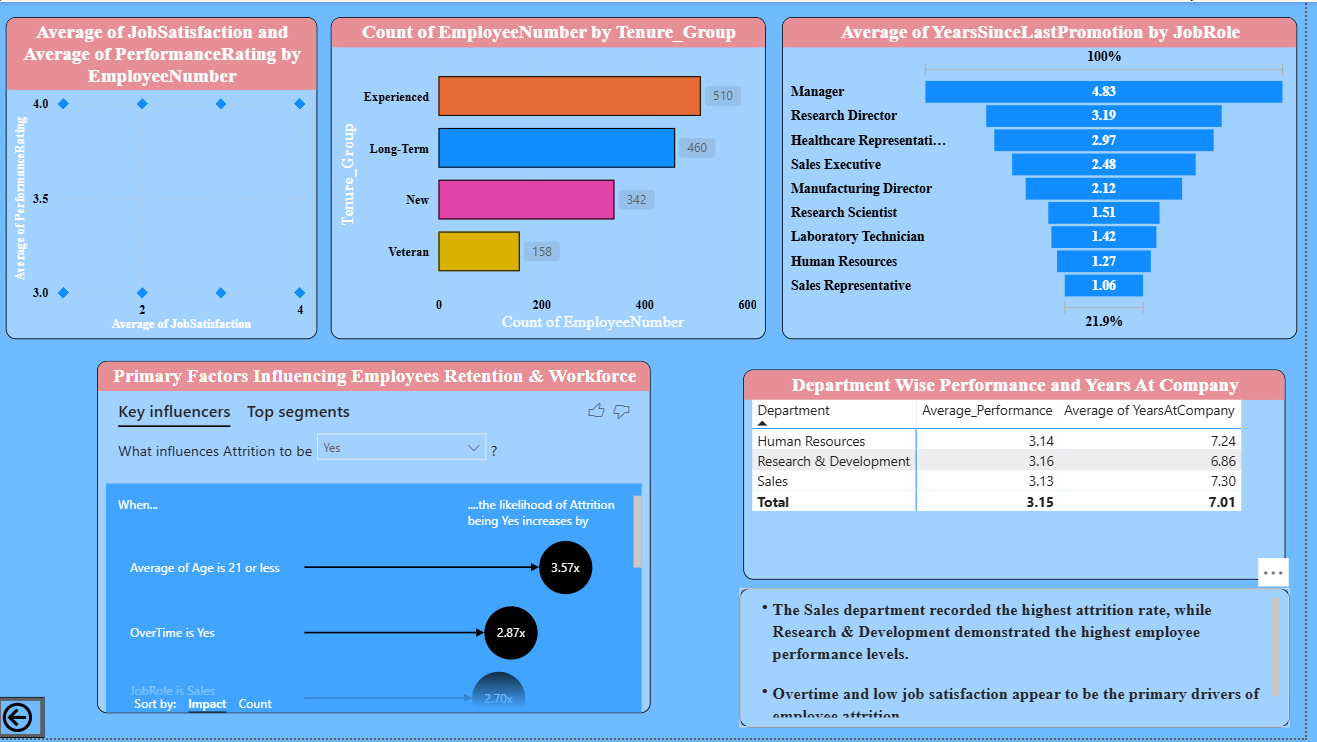

The page's visual inventory and layout, read from the dashboard file:
{"tool":"powerbi","page":{"name":"Page 2","canvas":[1280,720],"ordinal":1},"visuals":[{"type":"scatterChart","fields":{"X":["Avg(Employee_Performance.JobSatisfaction)"],"Y":["Avg(Employee_Performance.PerformanceRating)"],"Category":["Employee_Performance.EmployeeNumber"]},"box":[8.6,14.7,304.5,315.5],"z":0},{"type":"pivotTable","title":"Department Wise Performance and Years At Company","fields":{"Rows":["Employee_Master.Department"],"Values":["Employee_Performance.Average_Performance","Avg(Employee_Attrition.YearsAtCompany)"]},"box":[730,359.5,530.7,205.4],"z":1000},{"type":"clusteredBarChart","fields":{"Category":["Employee_Attrition.Tenure_Group"],"Y":["Count(Employee_Attrition.EmployeeNumber)"]},"box":[326.5,14.7,425.5,315.5],"z":2000},{"type":"funnel","fields":{"Category":["Employee_Master.JobRole"],"Y":["Avg(Employee_Attrition.YearsSinceLastPromotion)"]},"box":[767.9,14.7,503.8,315.5],"z":3000},{"type":"keyDriversVisual","title":"Primary Factors Influencing Employees Retention & Workforce","fields":{"Target":["Employee_Attrition.Attrition"],"ExplainBy":["Avg(Employee_Master.Age)","Employee_Master.Department","Employee_Master.JobRole","Employee_Attrition.OverTime","Avg(Employee_Compensation.MonthlyIncome)","Avg(Employee_Performance.JobSatisfaction)","Avg(Employee_Attrition.YearsAtCompany)"]},"box":[97.8,351,541.7,344.8],"z":4000},{"type":"textbox","box":[726.4,573.5,538,135.7],"z":5000},{"type":"actionButton","box":[0,679.9,46.5,40.4],"z":6000}]}

Visuals, with their boxes in screenshot pixels (x1, y1, x2, y2), scaled from the page's 1280x720 canvas onto the 1317x742 screenshot:
scatterChart - Avg(Employee_Performance.JobSatisfaction) x Avg(Employee_Performance.PerformanceRating): bbox=[9, 15, 322, 340]
"Department Wise Performance and Years At Company" pivotTable: bbox=[751, 370, 1297, 582]
clusteredBarChart - Employee_Attrition.Tenure_Group x Count(Employee_Attrition.EmployeeNumber): bbox=[336, 15, 774, 340]
funnel - Employee_Master.JobRole x Avg(Employee_Attrition.YearsSinceLastPromotion): bbox=[790, 15, 1308, 340]
"Primary Factors Influencing Employees Retention & Workforce" keyDriversVisual: bbox=[101, 362, 658, 717]
textbox: bbox=[747, 591, 1301, 731]
actionButton: bbox=[0, 701, 48, 741]
